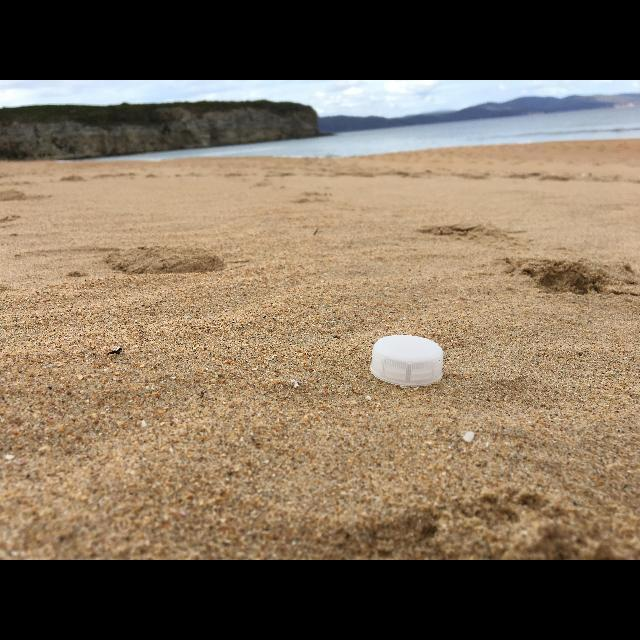Plastic: (371, 336, 444, 386)
